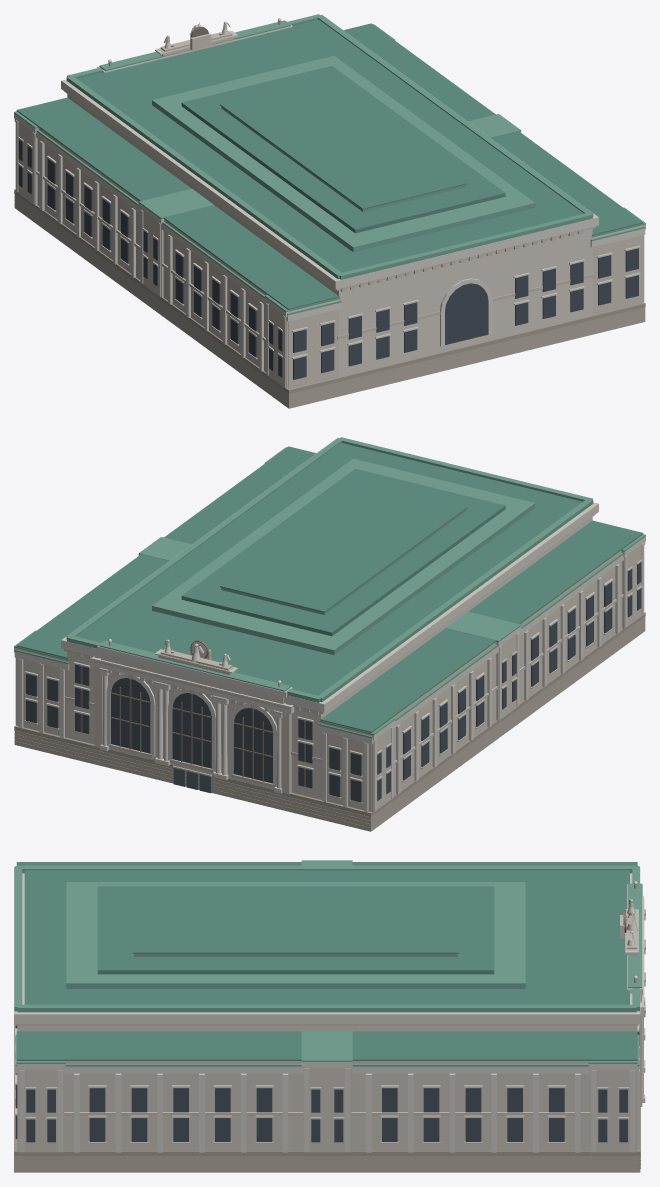
File: grandcentral.glb
3 views of the same model, one above another, from view 1: azimuth 30°, elevation 25°; view 2: azimuth 150°, elevation 25°; view 3: azimuth 270°, elevation 25° (orthographic). The views are drawn at different scales.
Parts seen in each view (by area): view 1: grandcentral; view 2: grandcentral; view 3: grandcentral.
Part boxes in pixels (box(x1,y1,x2,y2)): grandcentral: box(14, 14, 645, 408); grandcentral: box(14, 437, 645, 831); grandcentral: box(14, 860, 645, 1172).
Bounding box in the file's own units: 90.92 × 34.73 × 121.
